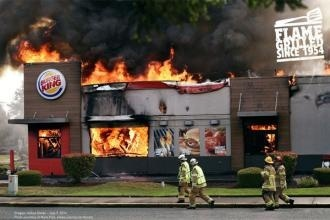fire: (82, 49, 200, 82), (9, 29, 69, 64), (89, 124, 148, 156), (250, 122, 277, 132), (275, 68, 296, 80)
